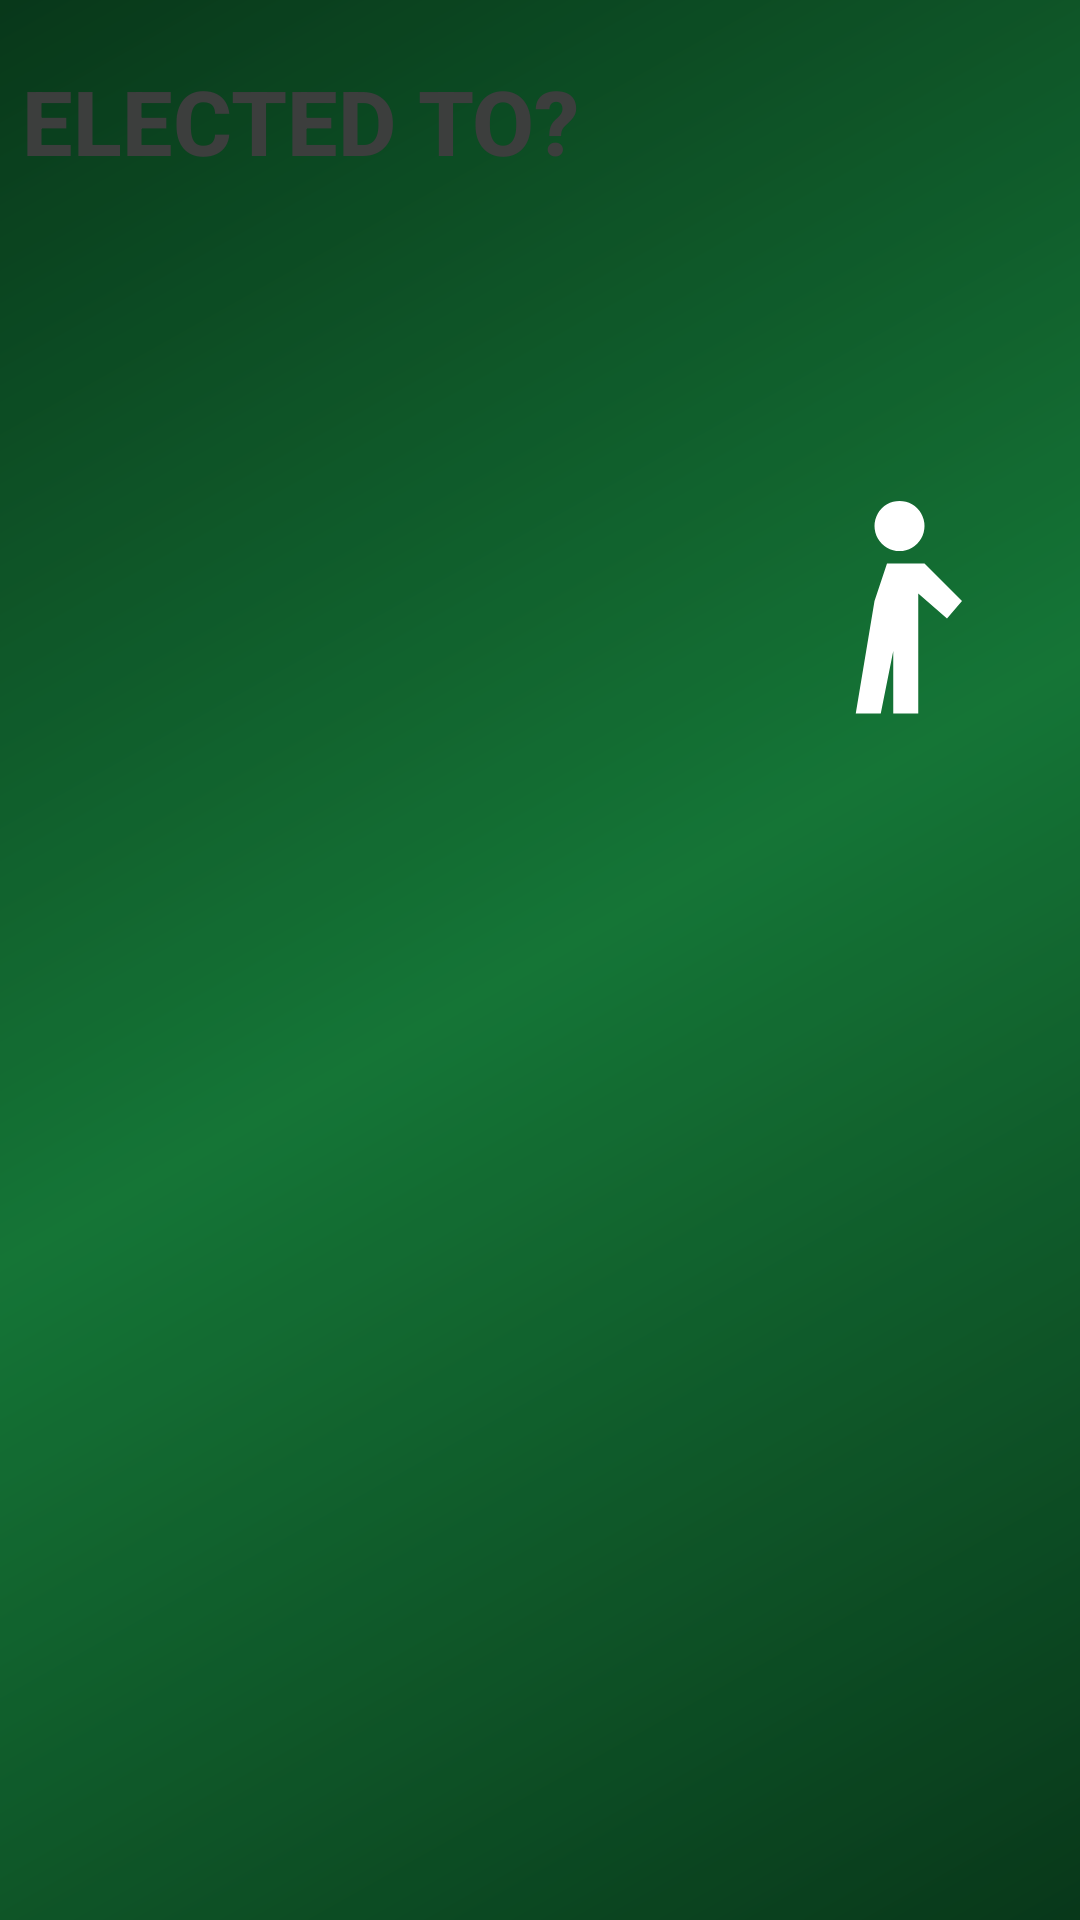

Locate icon controls on the screen. Image size 1080 x 1920, boxes as [x1,y1,x2,y2].
bowler bw: [856,501,962,714]
